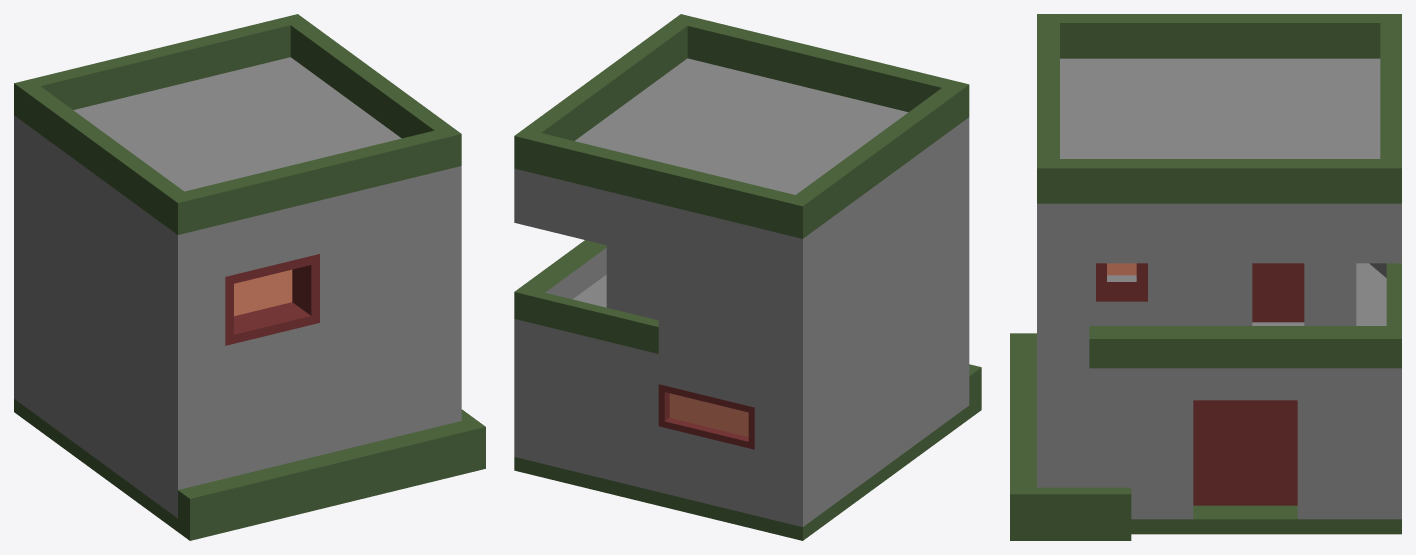
The model's file is casa276.fbx.
3 views of the same model, side by side, from view 1: azimuth 30°, elevation 25°; view 2: azimuth 150°, elevation 25°; view 3: azimuth 270°, elevation 25° (orthographic). The views are drawn at different scales.
Visible parts, largest first — view 1: Cube; view 2: Cube; view 3: Cube.
Boxes of the visible parts, x1,y1,x2,y2 form: Cube: (14, 14, 485, 540); Cube: (514, 14, 981, 540); Cube: (1010, 14, 1401, 540).
Bounding box in the file's own units: 209 × 222 × 215.
1 material, 1 textured.
